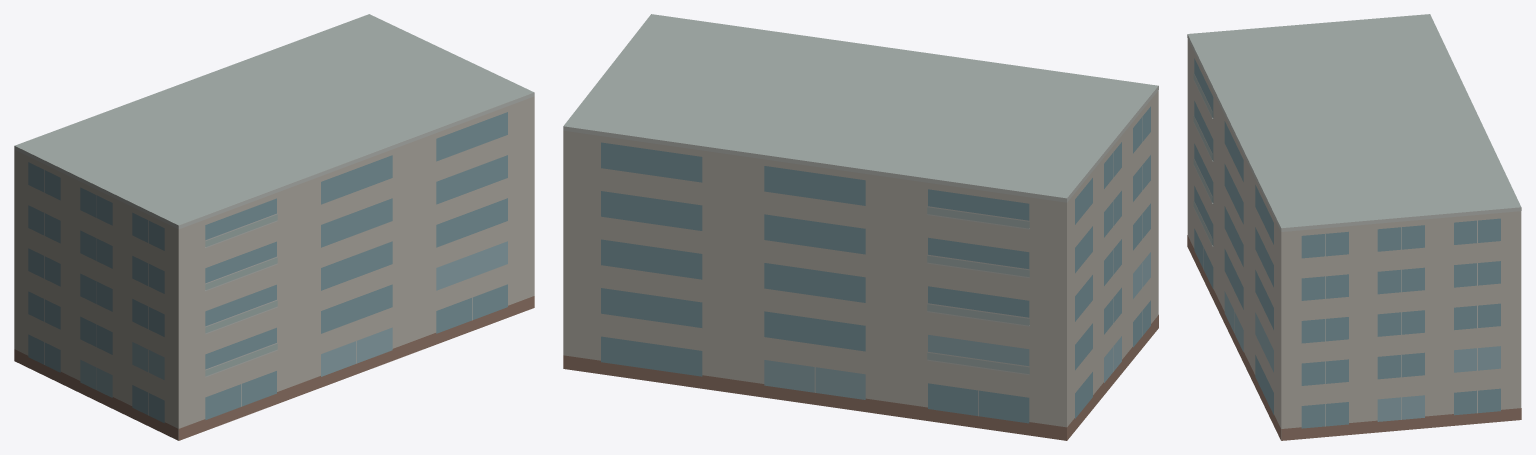
Rendered from survey-upis-32871255.glb.
3 views of the same model, side by side, from view 1: azimuth 30°, elevation 25°; view 2: azimuth 150°, elevation 25°; view 3: azimuth 270°, elevation 25° (orthographic). The views are drawn at different scales.
Parts seen in each view (by area): view 1: survey-upis-32871255.tmp; view 2: survey-upis-32871255.tmp; view 3: survey-upis-32871255.tmp.
Part boxes in pixels (x1,y1,x2,y2): survey-upis-32871255.tmp: [14, 14, 534, 440]; survey-upis-32871255.tmp: [563, 14, 1158, 440]; survey-upis-32871255.tmp: [1187, 14, 1521, 440].
Size of the model in its own units: 29.29 by 13.55 by 19.3.
